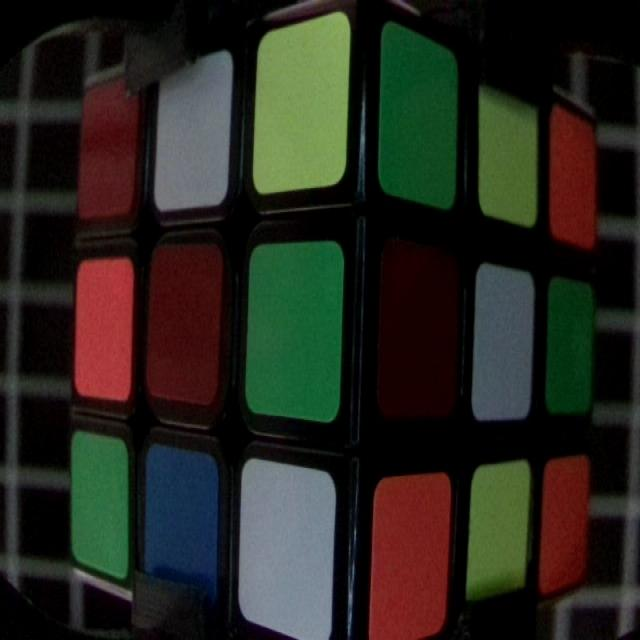b: (150, 450, 222, 605)
g: (252, 244, 342, 406), (384, 24, 456, 212), (69, 435, 126, 576), (554, 284, 589, 405)
o: (367, 479, 451, 633), (75, 266, 130, 393), (554, 102, 594, 246), (543, 461, 587, 584)
r: (388, 244, 462, 418), (146, 253, 223, 400), (82, 84, 140, 209)
w: (240, 454, 332, 636), (156, 53, 233, 198), (479, 265, 534, 420)
y: (254, 14, 348, 180), (481, 64, 538, 225), (469, 462, 529, 606)
